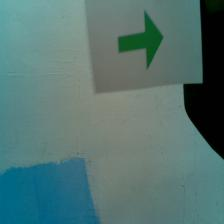right: (117, 10, 163, 72)
